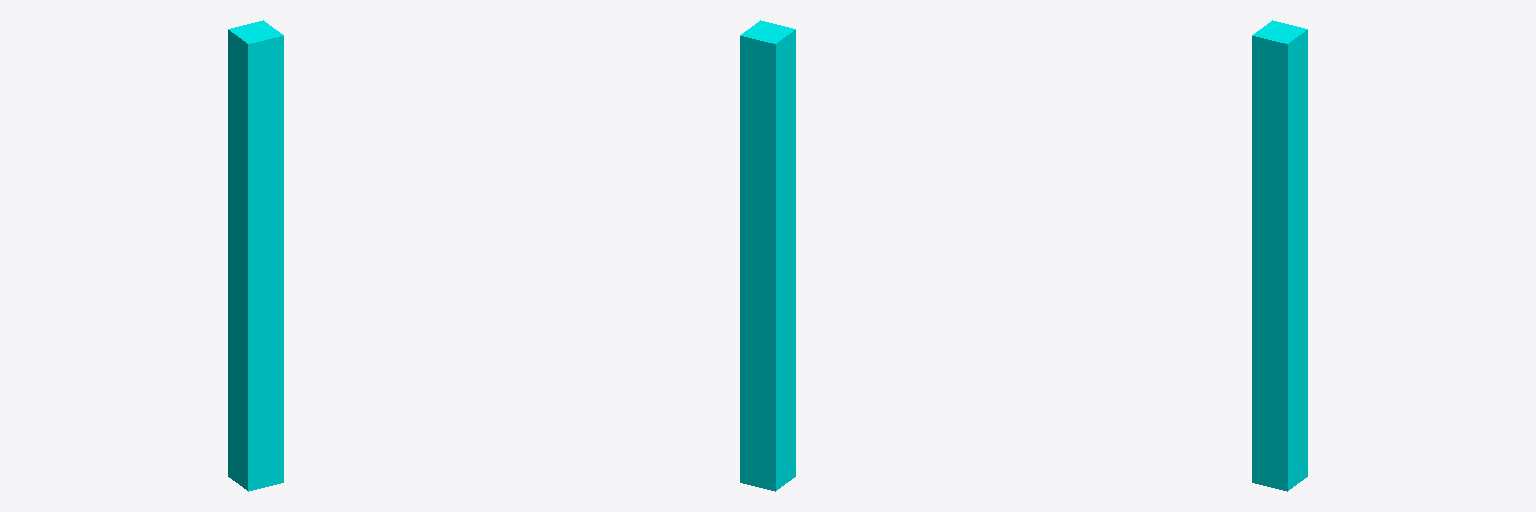
URDF robot description (block_c):
<?xml version="1.0"?>
<robot  name="block_c" >
 <link  name="block_c" >
  <inertial >
   <origin  xyz="0 0 0.01"  rpy="0 0 0" />
   <mass  value="1.0" />
   <inertia  iyy="0.001"  ixx="0.001"  iyz="0"  izz="0.001"  ixy="0"  ixz="0" />
  </inertial>
  <collision >
   <origin  xyz="0 0 0"  rpy="0 0 0" />
   <geometry >
    <box  size="0.01 0.01 0.12" />
   </geometry>
  </collision>
  <visual >
   <origin  xyz="0 0 0"  rpy="0 0 0" />
   <geometry >
    <box  size="0.01 0.01 0.12" />
   </geometry>
   <material  name="color" >
    <color  rgba="0 1 1 1.0" />
   </material>
  </visual>
 </link>
</robot>

--- Facts derived from the render (not from the file) ---
3 views of the same robot in one strip: view 1: azimuth 30°, elevation 25°; view 2: azimuth 150°, elevation 25°; view 3: azimuth 330°, elevation 25° (orthographic).
Model block_c with 1 links and 0 joints (none), rooted at block_c, posed all joints at 0.
Visible links, largest first — view 1: block_c; view 2: block_c; view 3: block_c.
Boxes of the visible links, bbox=[...] form: block_c: bbox=[228, 20, 283, 491]; block_c: bbox=[740, 20, 795, 491]; block_c: bbox=[1252, 20, 1307, 491].
Size in the robot's own frame: 0.01 by 0.01 by 0.12 metres.
Geometry: primitives only (box / cylinder / sphere), no mesh files.